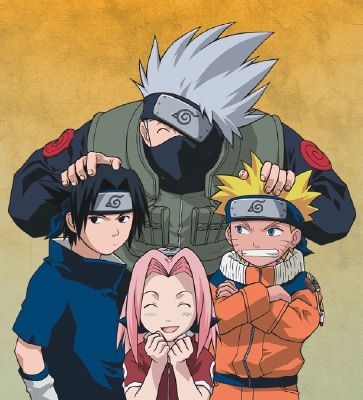kakashi: (140, 91, 228, 183)
naruto: (224, 194, 303, 266)
sakura: (135, 246, 200, 338)
sasuke: (64, 188, 135, 256)
